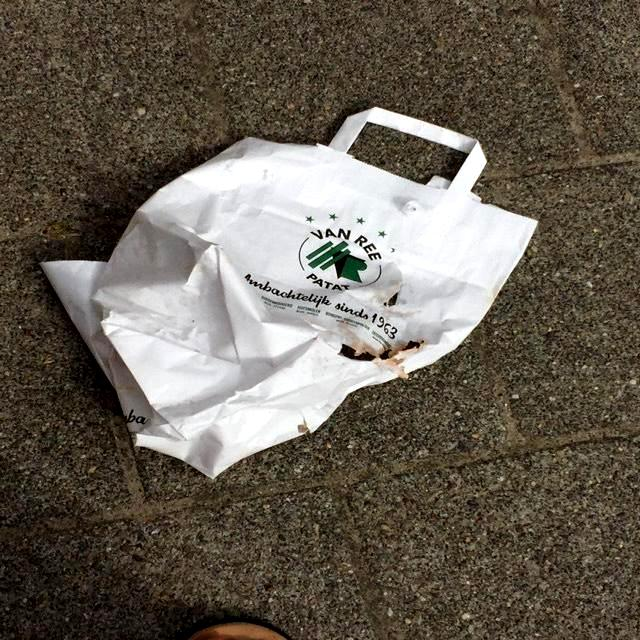Paper: (32, 102, 544, 482)
